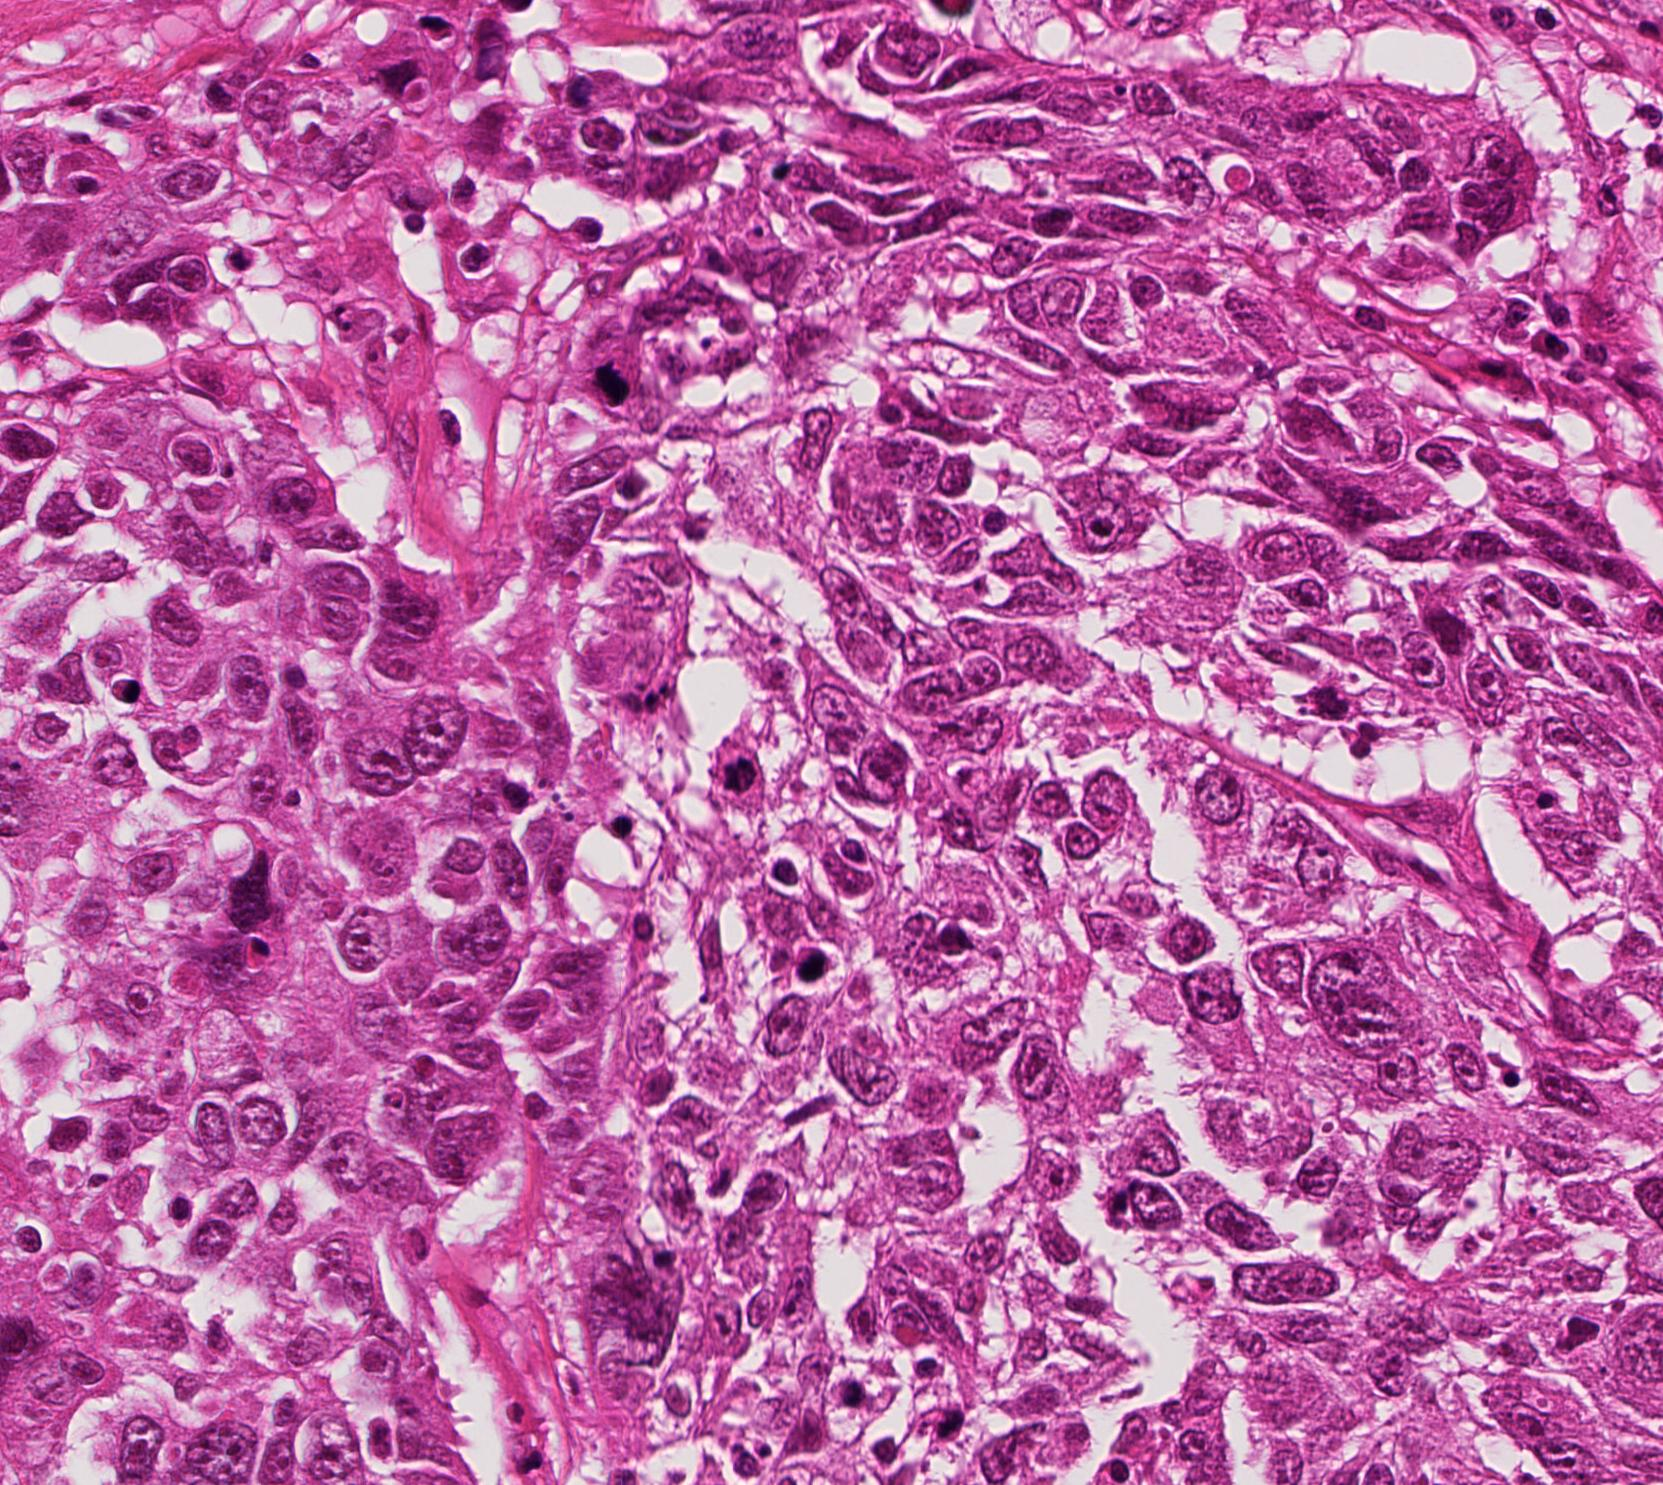mitosis: (700, 740, 758, 798)
